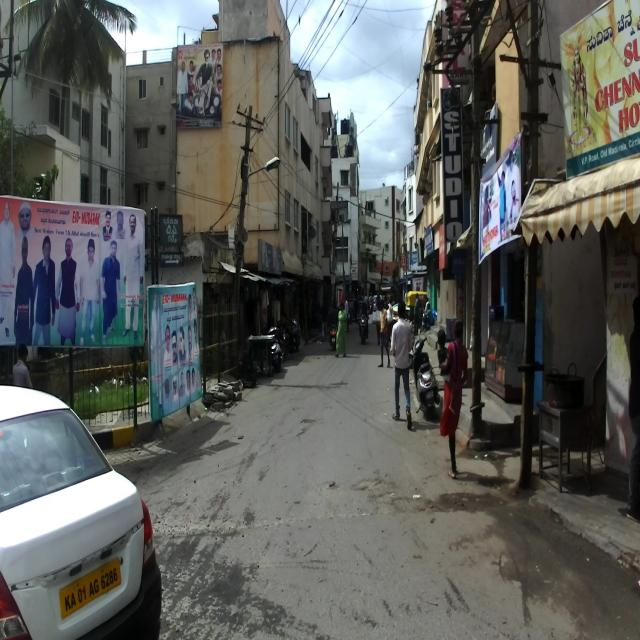car: (0, 384, 162, 640)
scooter: (411, 324, 440, 421)
